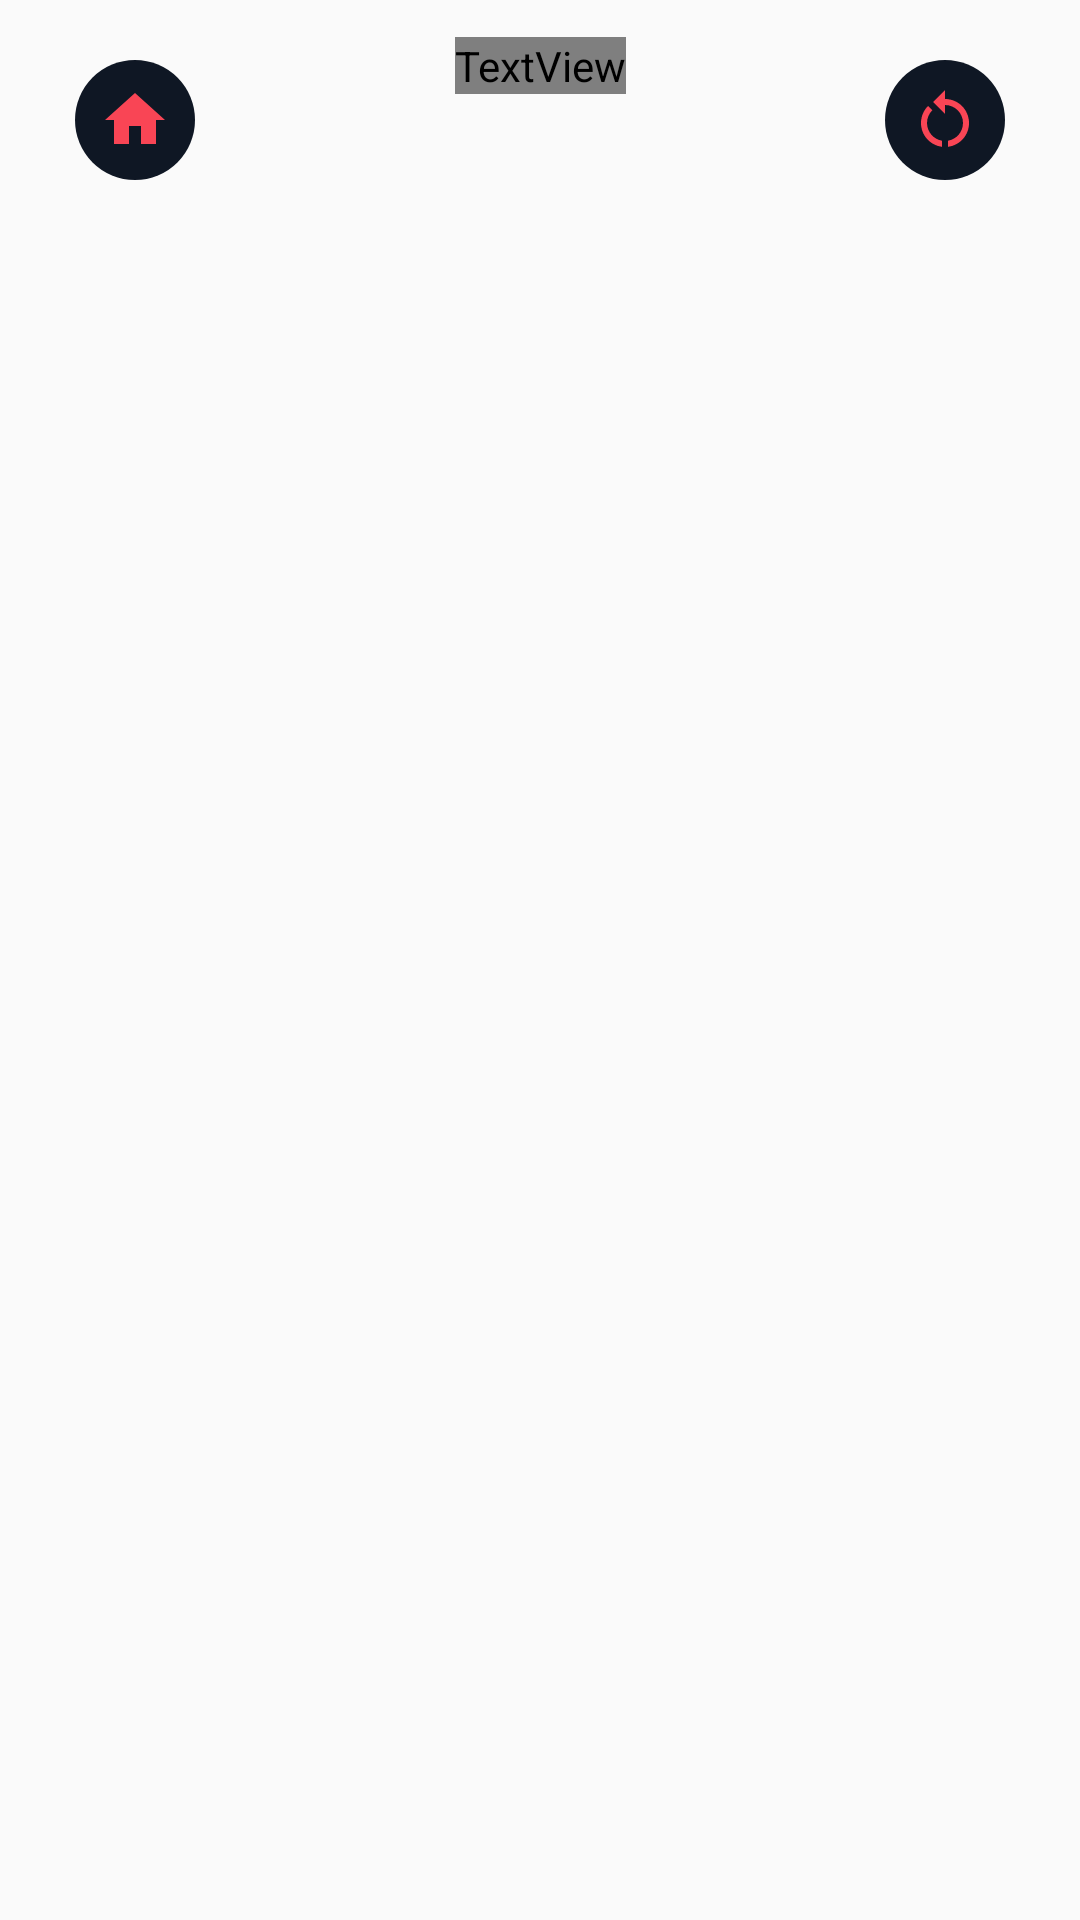

Where to tap for icons on this 1080w x 1920h app screen, as point (x, y):
home: point (135, 120)
restart: point (945, 120)
